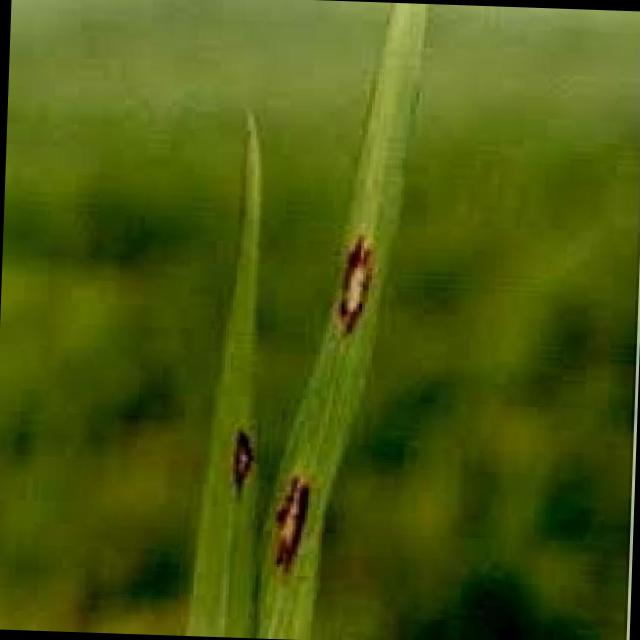Rice_Blast: (250, 455, 342, 558), (326, 217, 368, 326), (217, 404, 264, 486)
